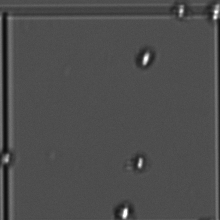Living Cell: (132, 45, 160, 72), (127, 151, 151, 175), (1, 145, 18, 174), (170, 1, 191, 20), (114, 201, 134, 218)
